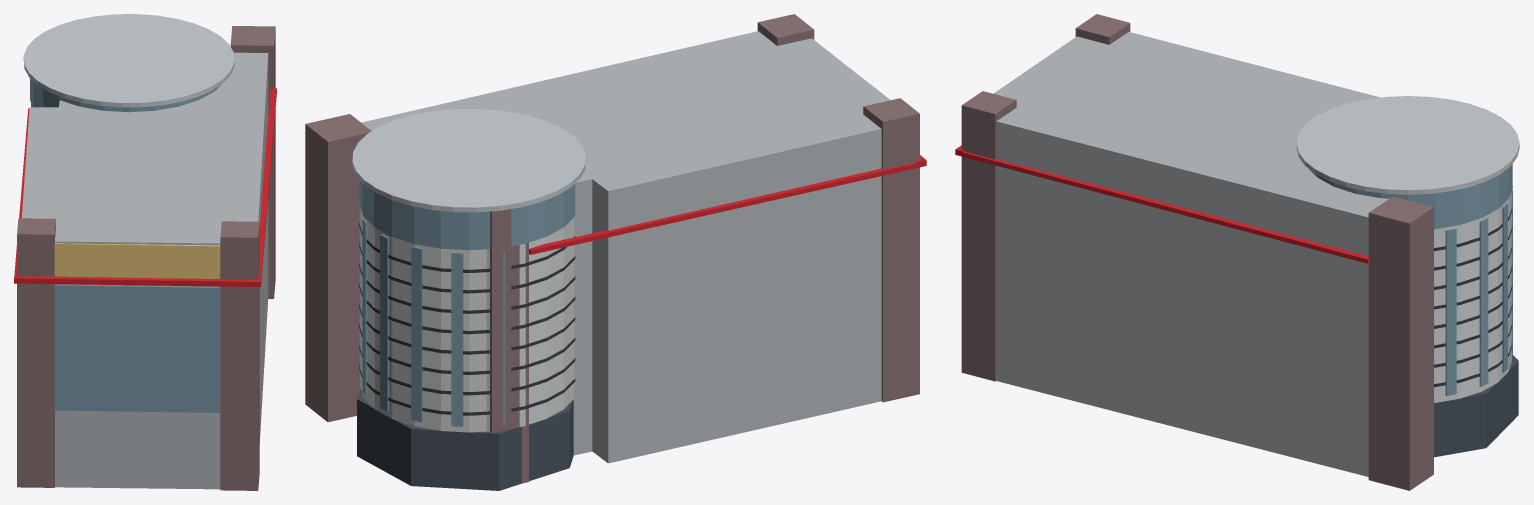
Rendered from shin-kong.glb.
3 renders of one model, left to right at view 1: azimuth 30°, elevation 25°; view 2: azimuth 150°, elevation 25°; view 3: azimuth 270°, elevation 25°, orthographic. The views are drawn at different scales.
Parts seen in each view (by area): view 1: shin-kong; view 2: shin-kong; view 3: shin-kong.
Boxes of the visible parts, x1,y1,x2,y2 form: shin-kong: [14, 14, 276, 490]; shin-kong: [305, 14, 926, 490]; shin-kong: [955, 14, 1519, 490].
Size of the model in its own units: 117 by 70 by 132.
